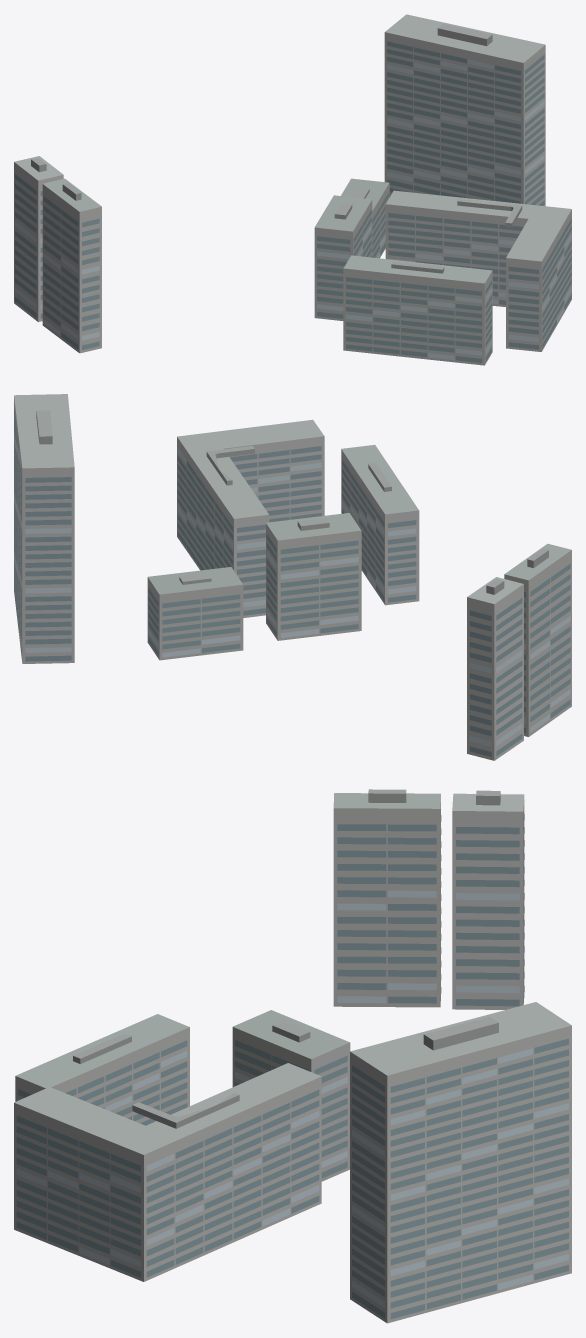
The model's file is apt-a13008001.glb.
3 renders of one model, top to bottom at view 1: azimuth 30°, elevation 25°; view 2: azimuth 150°, elevation 25°; view 3: azimuth 270°, elevation 25°, orthographic. The views are drawn at different scales.
Visible parts, largest first — view 1: apt-a13008001; view 2: apt-a13008001; view 3: apt-a13008001.
Boxes of the visible parts, box(x1,y1,x2,y2) form: apt-a13008001: box(14, 14, 571, 365); apt-a13008001: box(14, 394, 571, 760); apt-a13008001: box(14, 789, 571, 1323).
Size of the model in its own units: 171 by 62 by 122.
